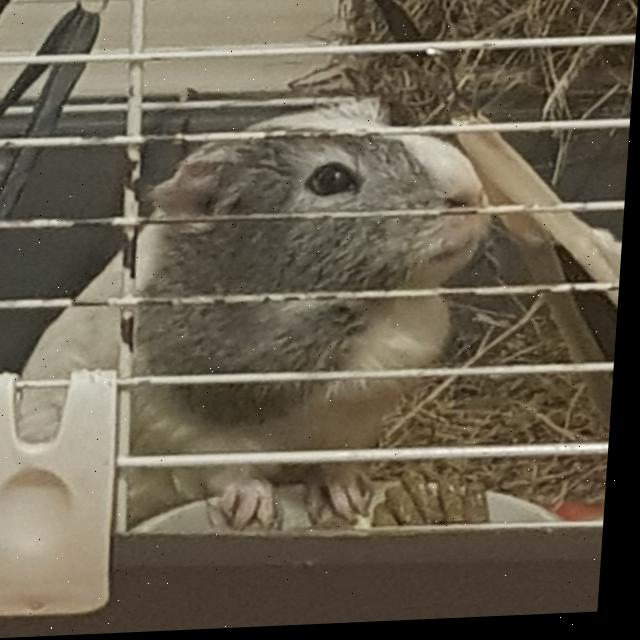guinea pig: (22, 105, 507, 548)
